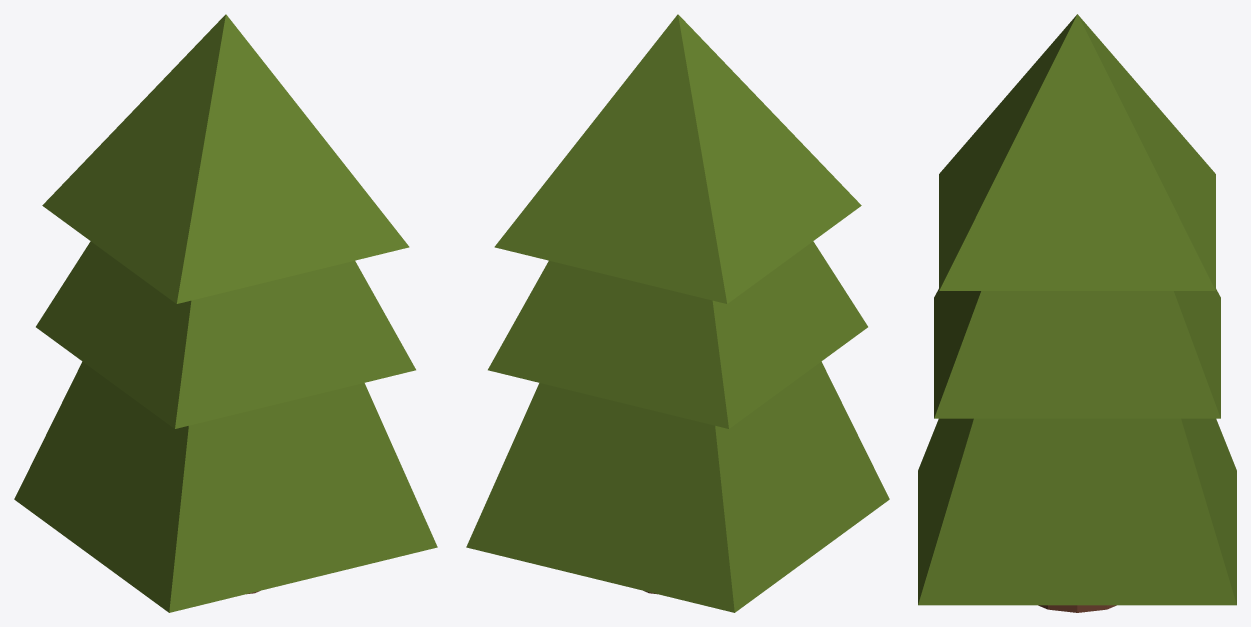
The model's file is Tree_18_autumn_vc.fbx.
3 views of the same model, side by side, from view 1: azimuth 30°, elevation 25°; view 2: azimuth 150°, elevation 25°; view 3: azimuth 270°, elevation 25° (orthographic). The views are drawn at different scales.
Parts seen in each view (by area): view 1: Tree_18_autumn_vc; view 2: Tree_18_autumn_vc; view 3: Tree_18_autumn_vc.
Boxes of the visible parts, <box> form: Tree_18_autumn_vc: <box>14,14,437,612</box>; Tree_18_autumn_vc: <box>466,14,889,612</box>; Tree_18_autumn_vc: <box>918,14,1236,612</box>.
Size of the model in its own units: 2.5 by 4.96 by 2.5.
